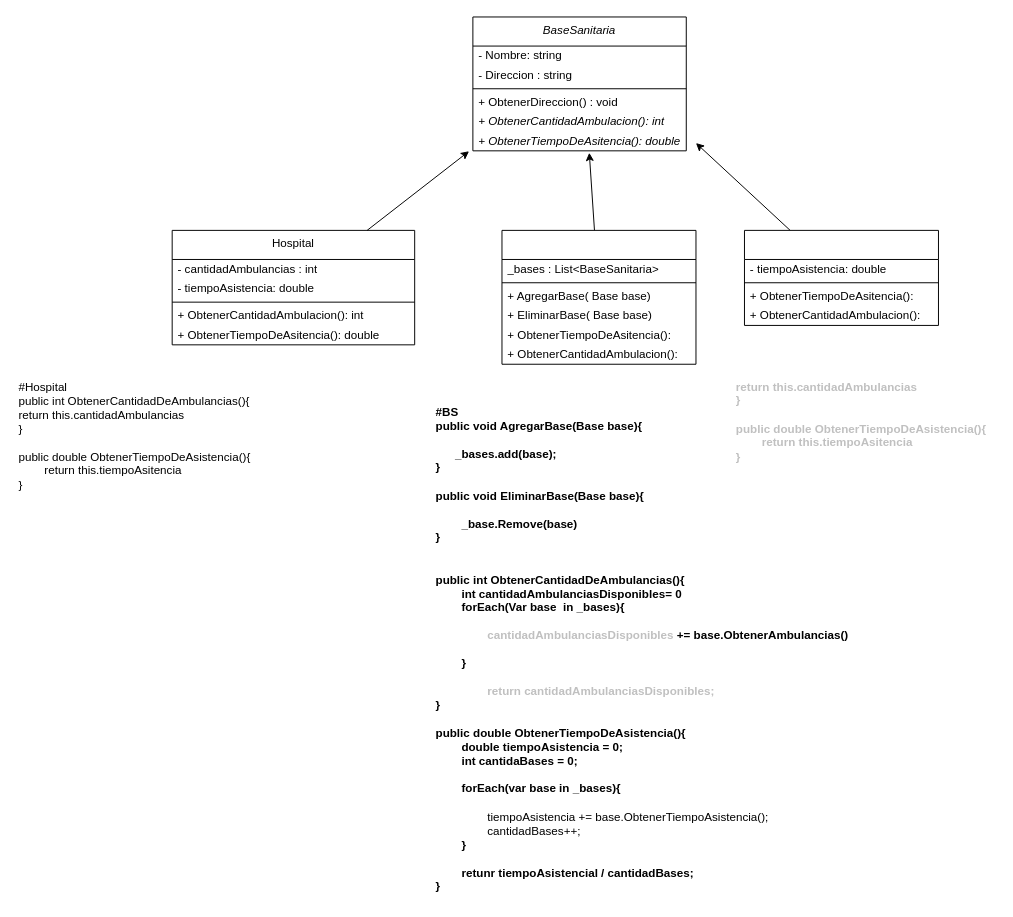
The diagram is 1013 pixels wide and 917 high, and some of its shapes have lost their labels. Here are the shapes that lost their labels. From the top down, the box of each, then its label:
(501, 229, 696, 364): UnidadesAdministrativas
(744, 229, 938, 325): UnidadesDeAtencionPrimaria
